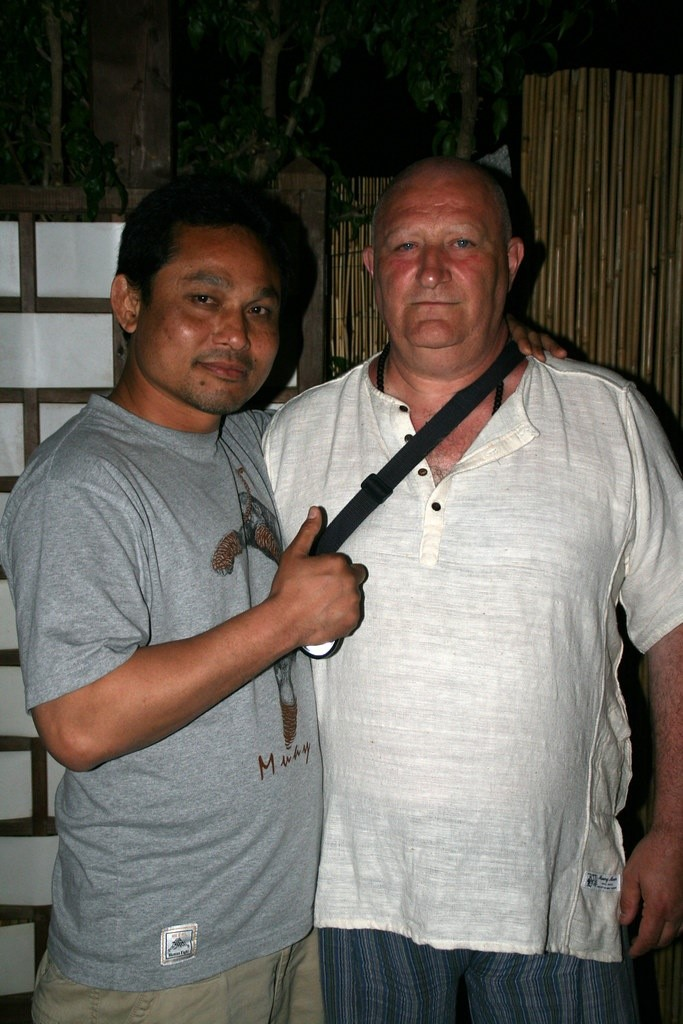face_no_mask: (109, 176, 283, 417), (362, 159, 525, 369)
